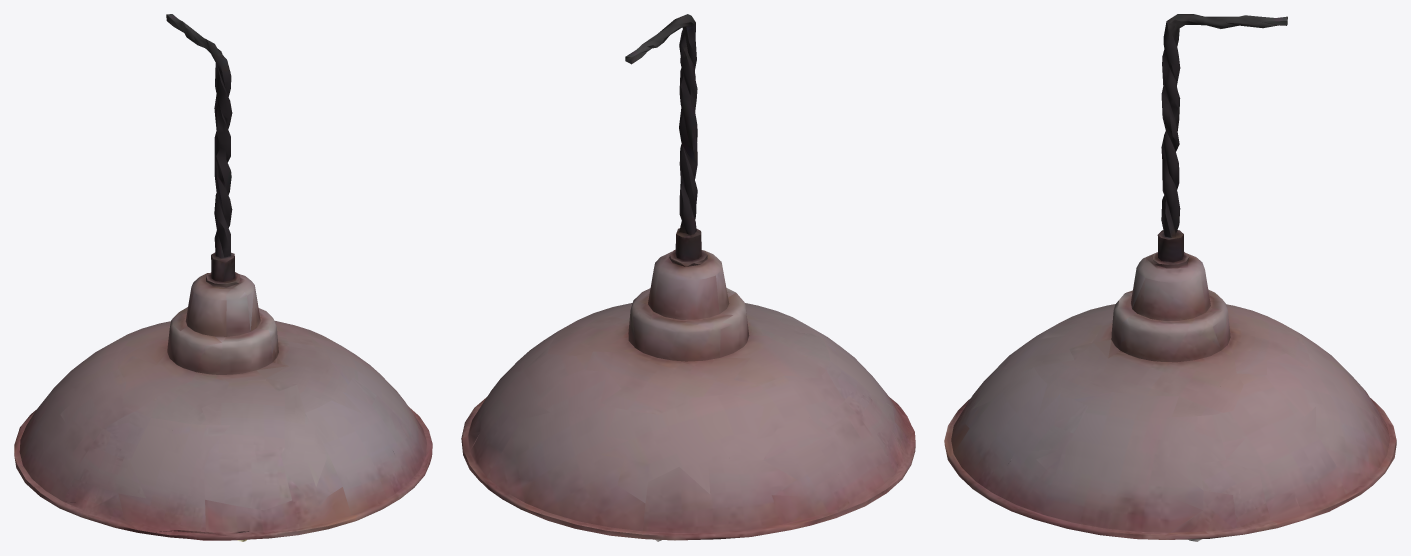
Rendered from lamp_ceiling_lampa_nakalivaniya_idle.glb.
3 views of the same model, side by side, from view 1: azimuth 30°, elevation 25°; view 2: azimuth 150°, elevation 25°; view 3: azimuth 270°, elevation 25° (orthographic). The views are drawn at different scales.
Parts seen in each view (by area): view 1: tripo_node_1708fd8d-0b67-40fb-8d3b-95f6b2eb803b; view 2: tripo_node_1708fd8d-0b67-40fb-8d3b-95f6b2eb803b; view 3: tripo_node_1708fd8d-0b67-40fb-8d3b-95f6b2eb803b.
Part boxes in pixels (bbox=[...]): tripo_node_1708fd8d-0b67-40fb-8d3b-95f6b2eb803b: bbox=[14, 14, 432, 541]; tripo_node_1708fd8d-0b67-40fb-8d3b-95f6b2eb803b: bbox=[461, 14, 915, 541]; tripo_node_1708fd8d-0b67-40fb-8d3b-95f6b2eb803b: bbox=[944, 14, 1396, 541].
Size of the model in its own units: 0.1999 by 0.2501 by 0.2.
1 material, 1 textured.
